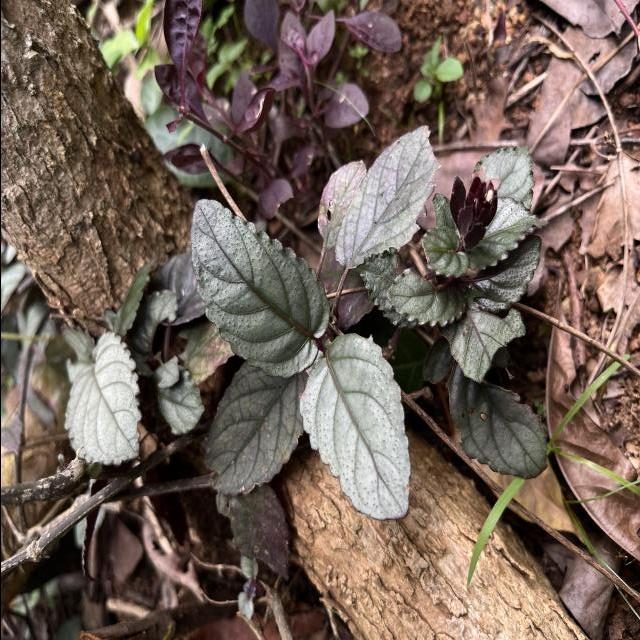Hemigraphis colorata: (188, 196, 330, 380), (295, 332, 412, 526), (331, 122, 443, 272), (198, 357, 306, 499), (61, 328, 142, 471)
